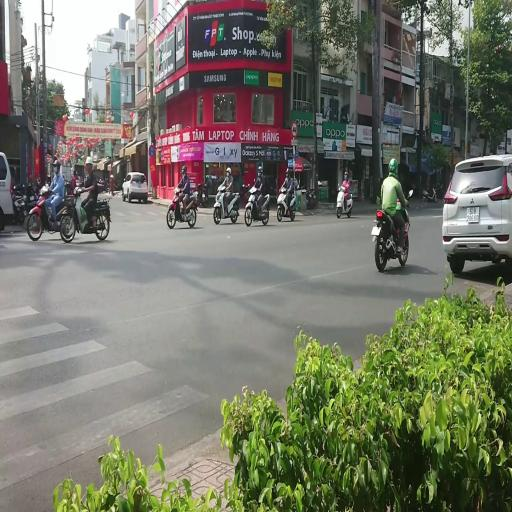bikes: (371, 188, 413, 271), (60, 183, 112, 242), (26, 181, 76, 242), (12, 179, 40, 226), (166, 188, 197, 228), (244, 185, 270, 226), (213, 186, 240, 224), (276, 181, 296, 221), (422, 165, 443, 202), (11, 182, 26, 224), (336, 182, 353, 218), (194, 182, 207, 207), (422, 187, 437, 202), (306, 187, 316, 209), (96, 177, 109, 193)
helmet: (388, 158, 398, 176), (39, 186, 48, 195), (85, 156, 93, 166), (257, 166, 263, 175), (294, 178, 299, 188), (181, 165, 187, 173), (54, 159, 60, 167), (36, 174, 40, 186), (285, 167, 290, 176), (226, 168, 231, 176), (344, 172, 349, 180), (73, 170, 78, 177), (110, 174, 113, 178)
